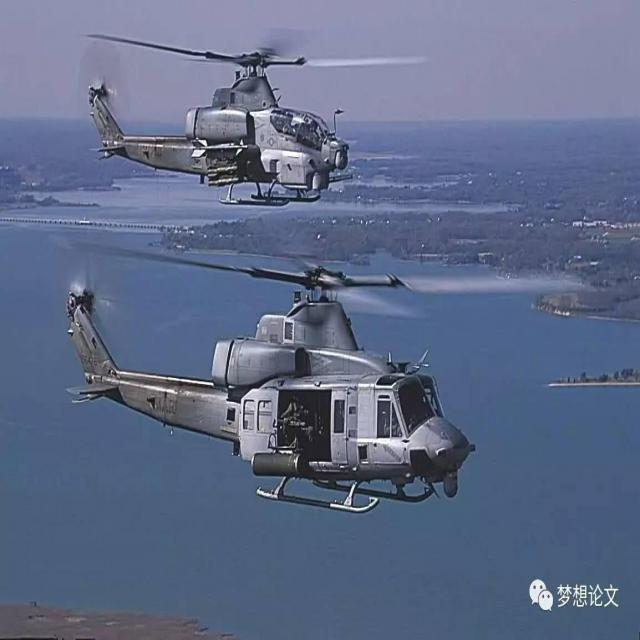MIL_HELO: (45, 238, 499, 533), (64, 16, 430, 231)
